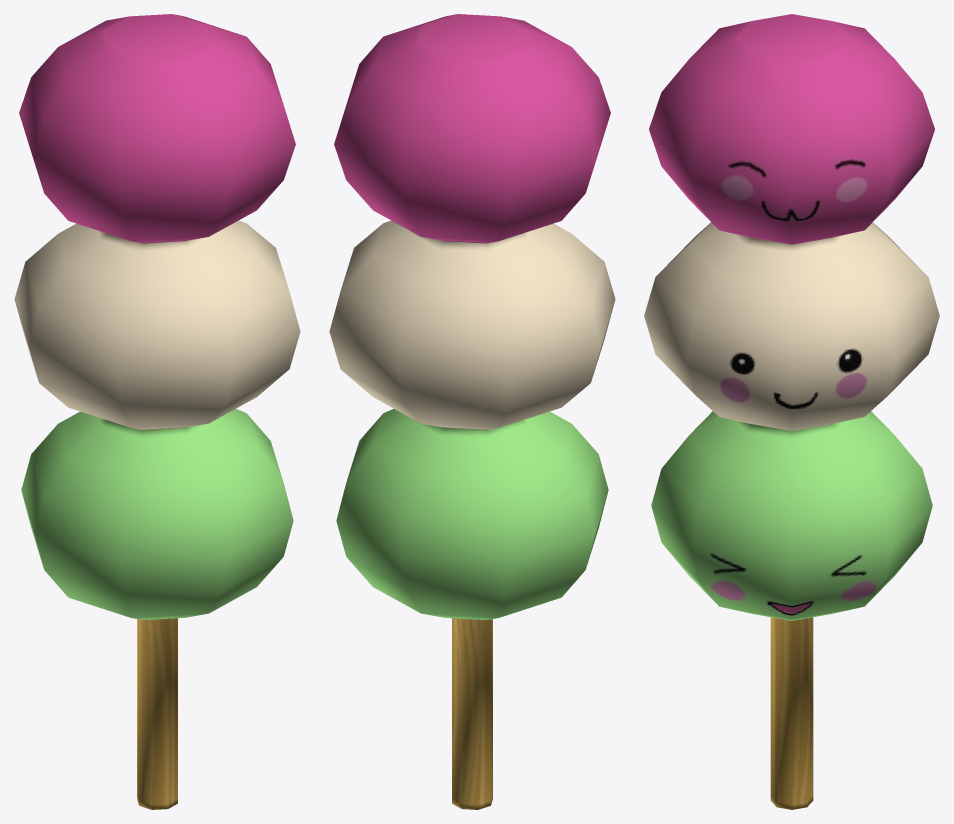
File: dango -pozitivni.fbx
3 renders of one model, left to right at view 1: azimuth 30°, elevation 25°; view 2: azimuth 150°, elevation 25°; view 3: azimuth 270°, elevation 25°, orthographic.
Parts seen in each view (by area): view 1: dango; view 2: dango; view 3: dango.
Part boxes in pixels (left/top/right/bottom): dango: left=14, top=14, right=300, bottom=809; dango: left=329, top=14, right=615, bottom=809; dango: left=644, top=14, right=939, bottom=809.
Bounding box in the file's own units: 24.62 × 70.13 × 24.62.
1 material, 1 textured.
